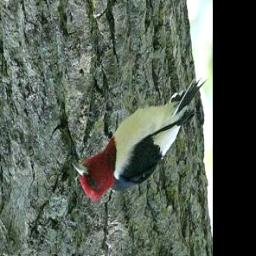Woodpecker: (67, 64, 211, 211)
